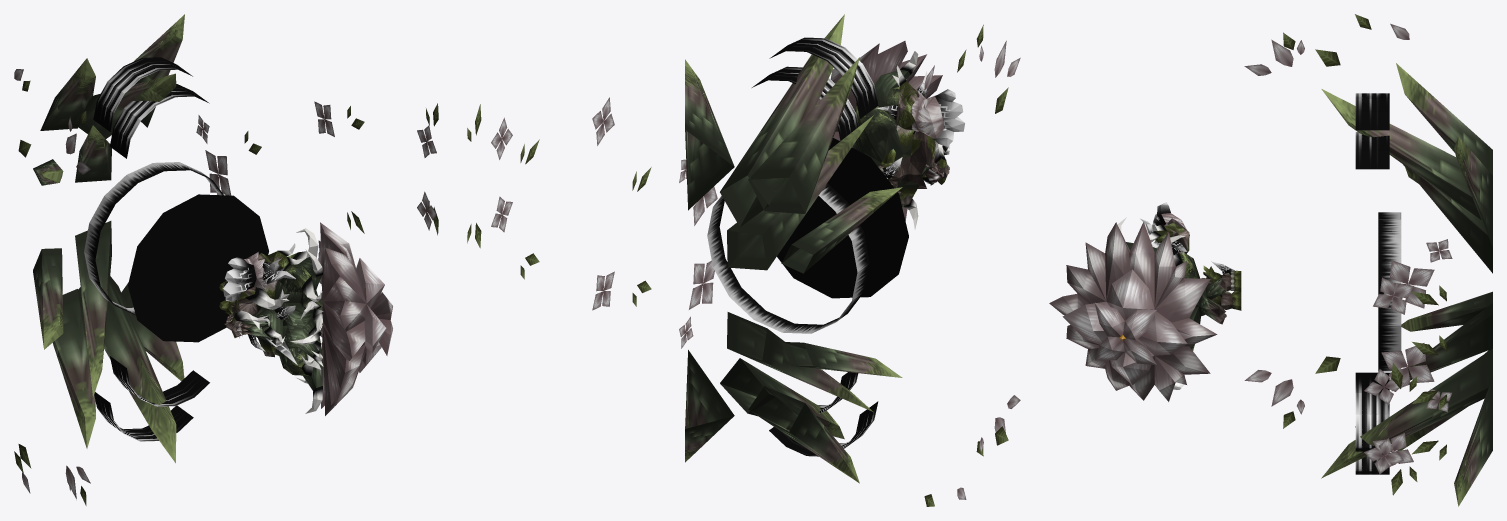
3 views of the same model, side by side, from view 1: azimuth 30°, elevation 25°; view 2: azimuth 150°, elevation 25°; view 3: azimuth 270°, elevation 25° (orthographic). The views are drawn at different scales.
Parts seen in each view (by area): view 1: B_0116_1, B_0116_0; view 2: B_0116_1, B_0116_0; view 3: B_0116_1, B_0116_0.
Boxes of the visible parts, box(x1,y1,x2,y2) form: B_0116_1: box(14, 14, 438, 505); B_0116_0: box(84, 57, 323, 441); B_0116_1: box(467, 14, 1020, 506); B_0116_0: box(707, 37, 964, 456); B_0116_1: box(1049, 14, 1492, 506); B_0116_0: box(1117, 93, 1401, 474).
Bounding box in the file's own units: 81.24 × 72.04 × 70.06.
2 materials, 2 textured.
